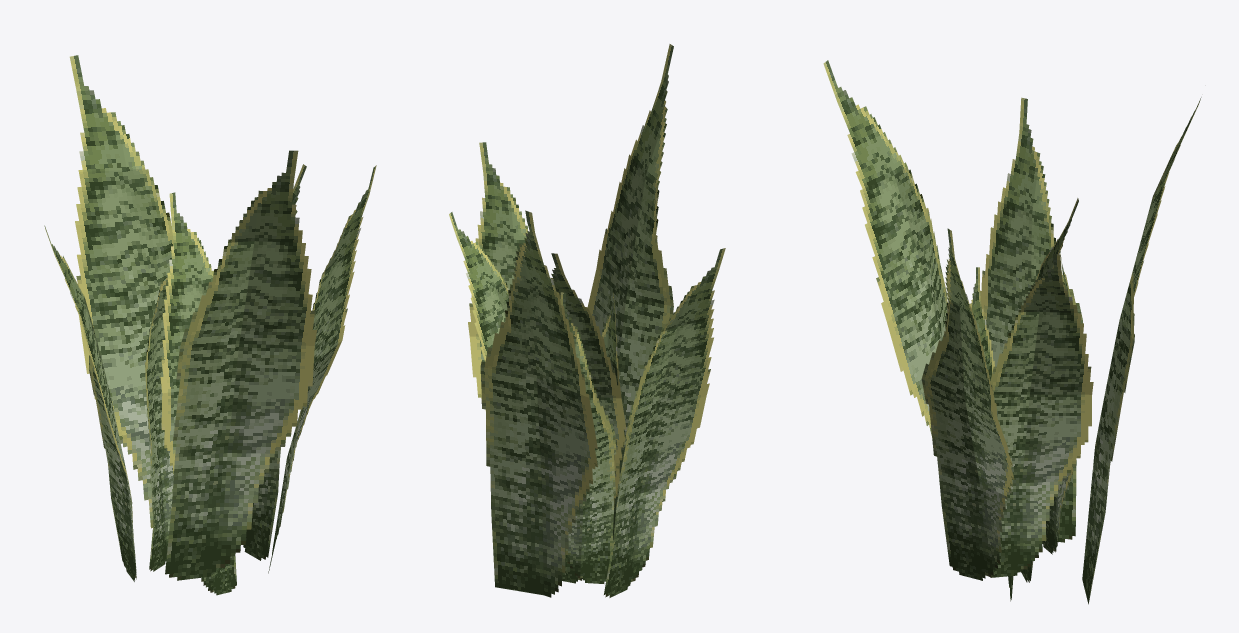
Rendered from sanseveria.glb.
3 renders of one model, left to right at view 1: azimuth 30°, elevation 25°; view 2: azimuth 150°, elevation 25°; view 3: azimuth 270°, elevation 25°, orthographic. The views are drawn at different scales.
Parts seen in each view (by area): view 1: sanseveria; view 2: sanseveria; view 3: sanseveria.
Boxes of the visible parts, x1,y1,x2,y2 form: sanseveria: (44,55,376,595); sanseveria: (449,44,725,597); sanseveria: (823,60,1201,604).
Size of the model in its own units: 0.6937 by 0.9927 by 0.7244.
1 material, 1 textured.
